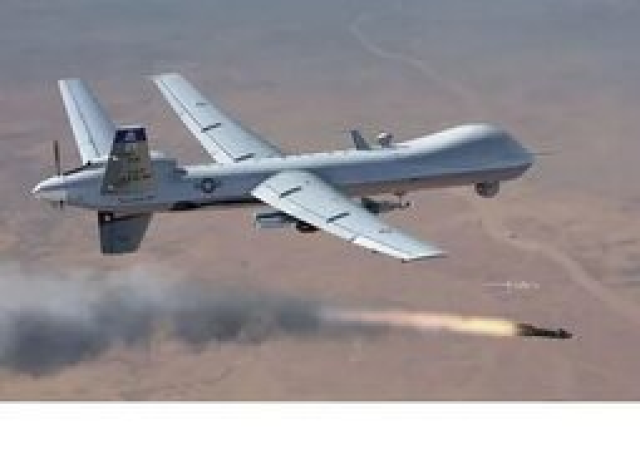military drone: (29, 71, 558, 263)
